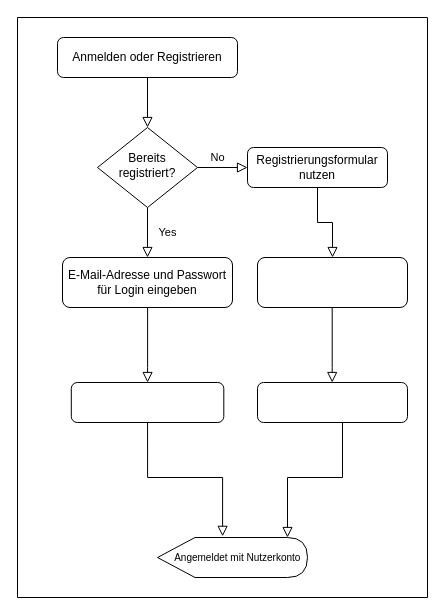
This 445x615 diagram has some shape labels left out. Here are the shapes that lost their labels. From the top down, the centre of each, then its label:
point (332, 282): Name, Geburtsdatum, Telefonnummer, E-Mail, Passwort eingeben
point (147, 402): Auf "Login" klicken
point (332, 402): Auf "Registrieren" klicken
